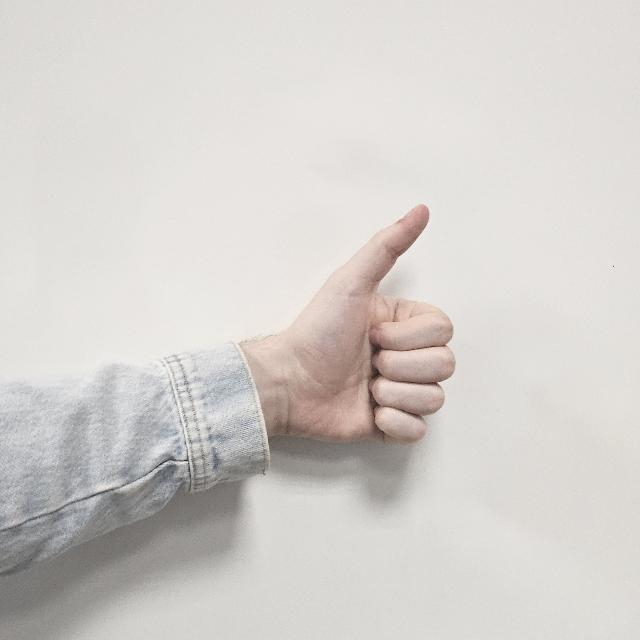Start: (236, 201, 458, 455)
